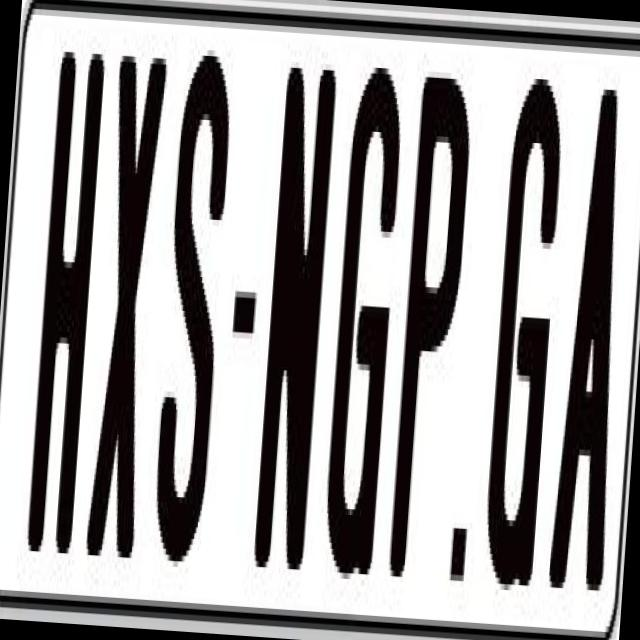A: (546, 88, 636, 626)
G: (319, 48, 413, 581), (480, 59, 570, 580)
H: (24, 33, 110, 566)
N: (252, 62, 339, 588)
P: (383, 75, 475, 602)
S: (149, 54, 239, 568)
X: (84, 50, 169, 558)
